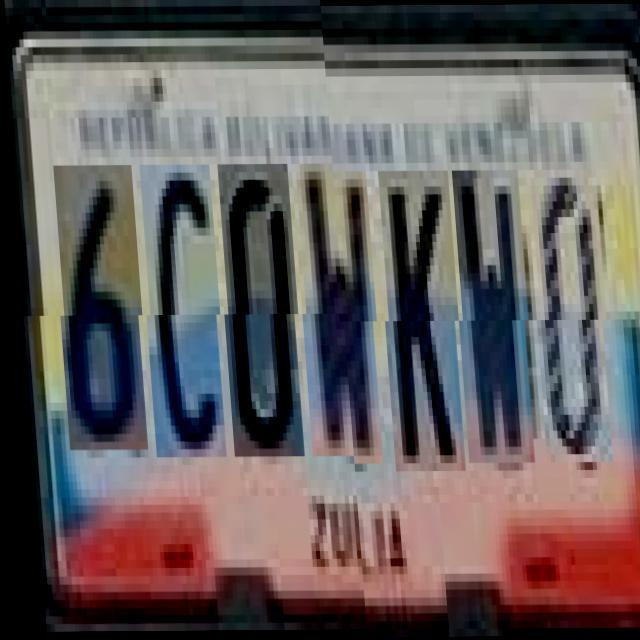0: (215, 172, 302, 465), (526, 170, 610, 464)
6: (51, 173, 146, 458)
C: (137, 172, 224, 466)
K: (376, 172, 462, 472)
W: (293, 172, 380, 464), (449, 171, 532, 464)
